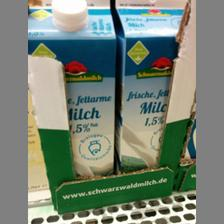Milch: (28, 0, 116, 182), (114, 0, 182, 182)
